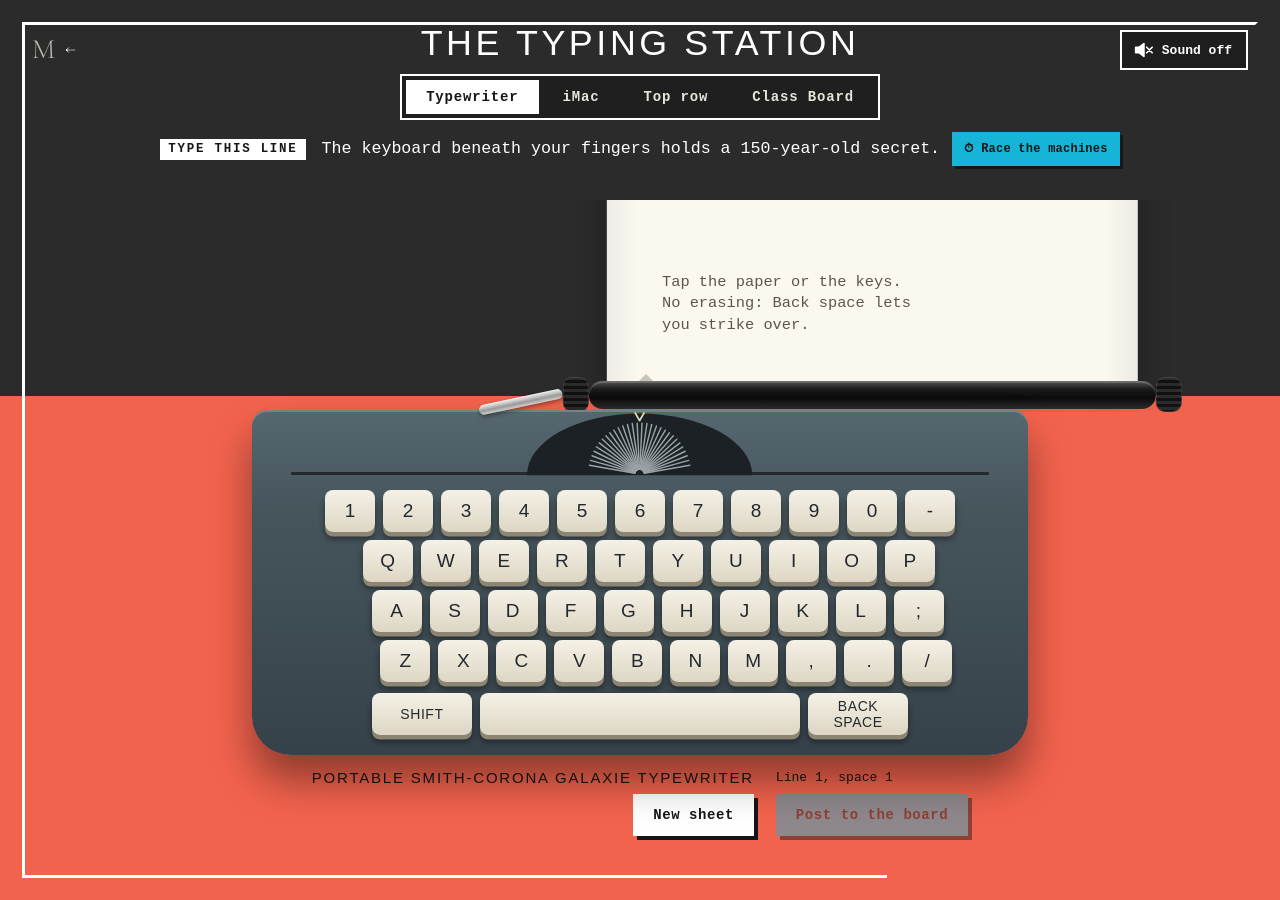
Test: the teacher’s prompt (B3) › goes with the board when it is saved under a class code
The width and height of the screenshot is (1280, 900).
Click the tab "Class Board" at (803, 97), box 732,80 -> 874,114
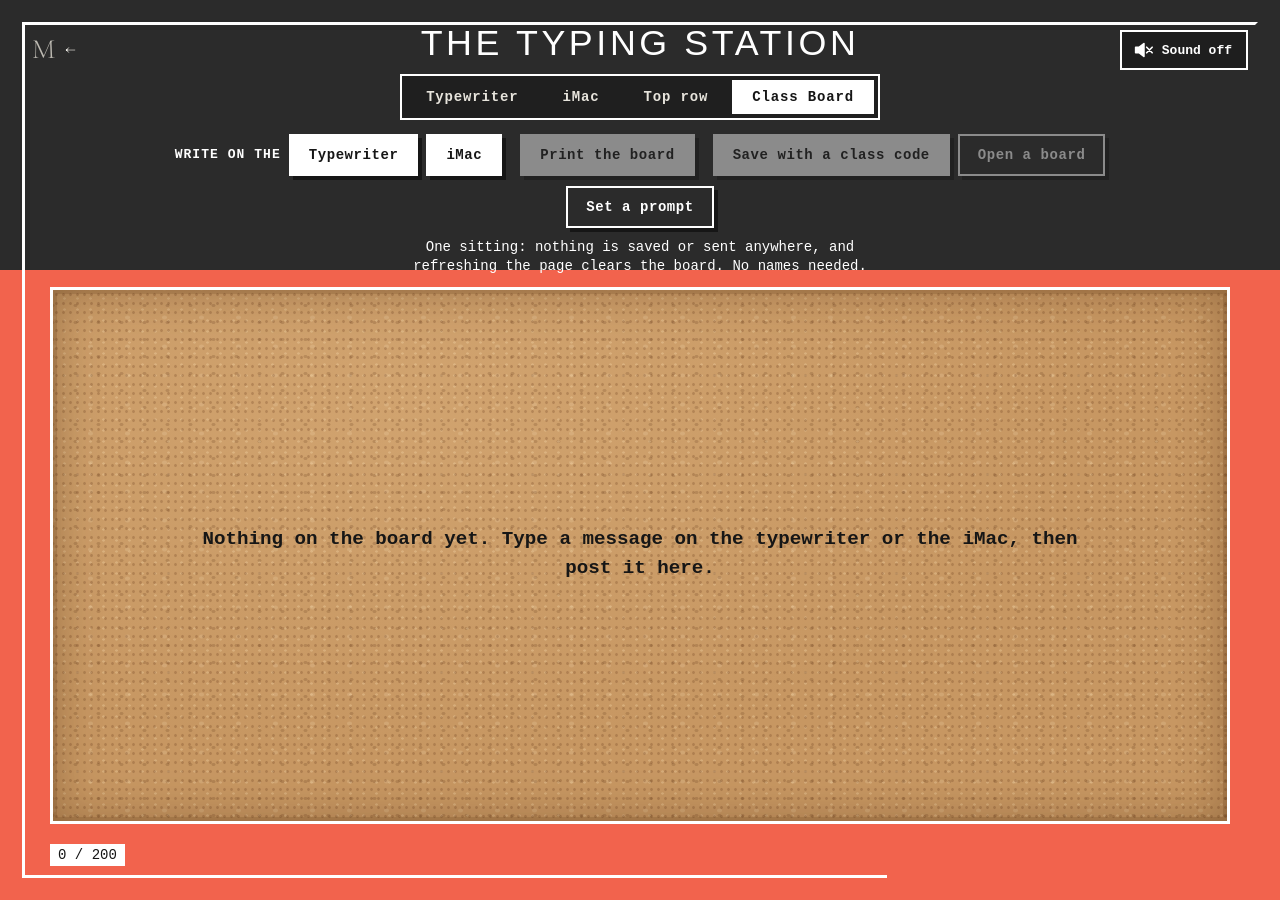
Click the button "Set a prompt" at (640, 207), box 566,186 -> 714,228
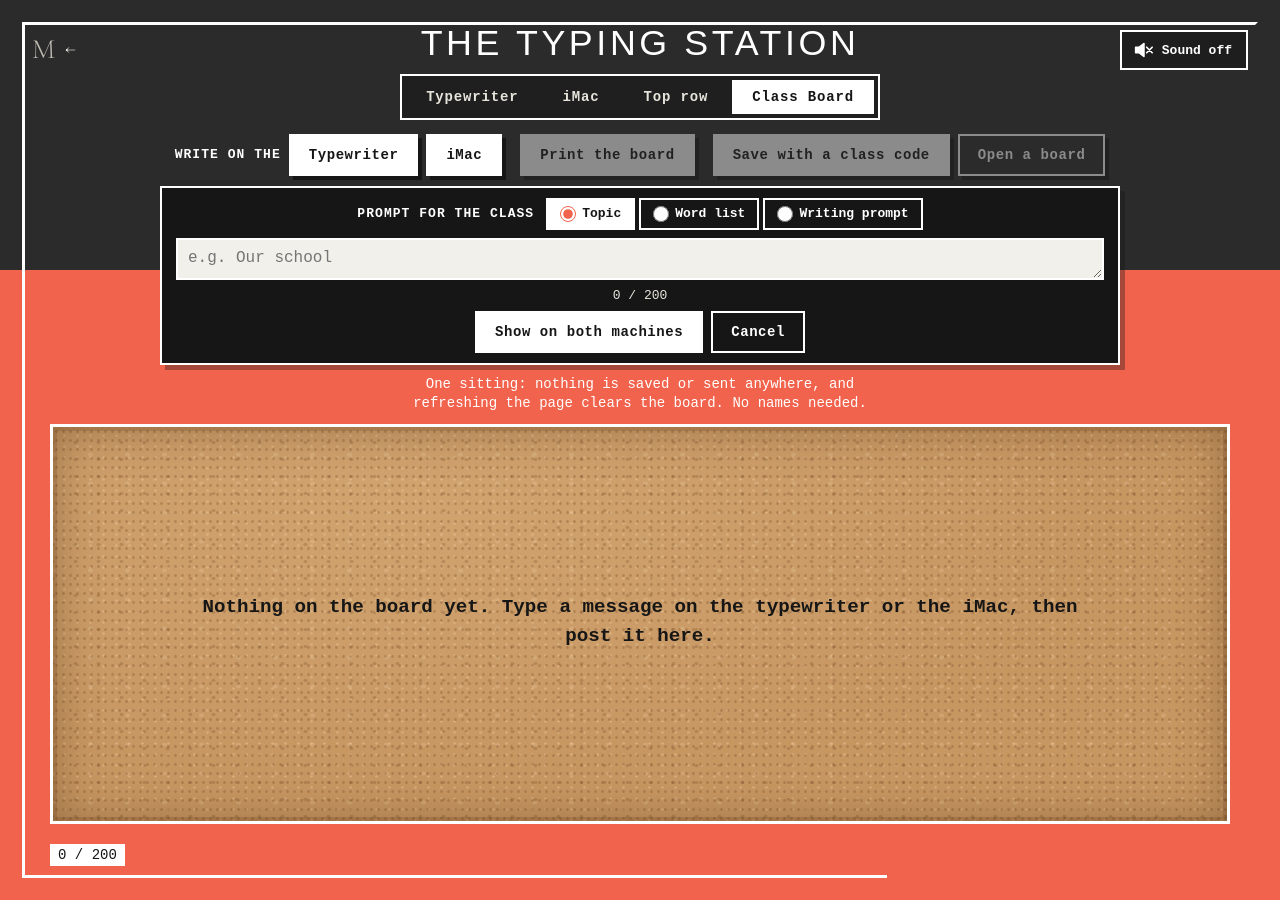
Type "Our school" into the text box named "The prompt" at (640, 259), box 176,238 -> 1104,280
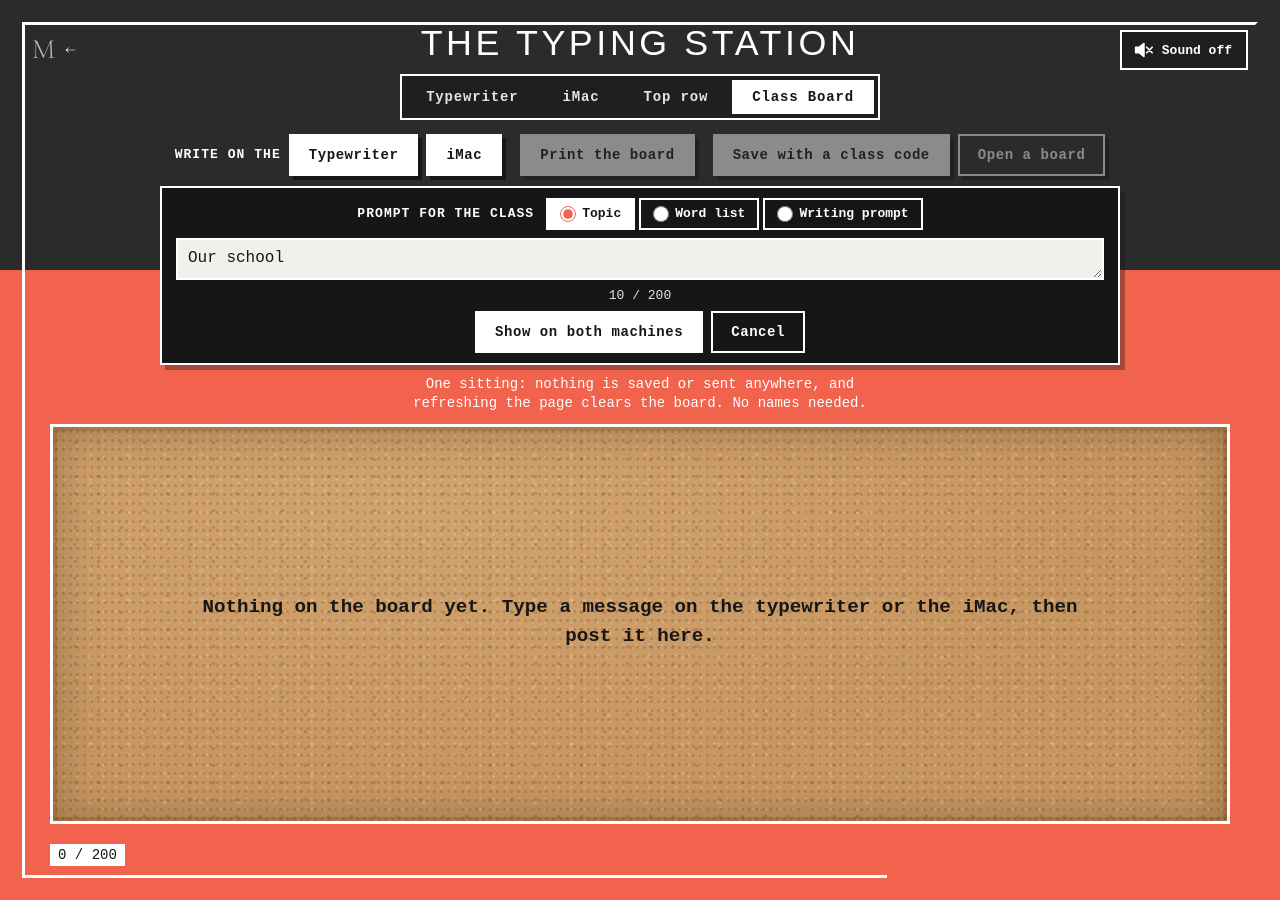
Click the button "Show on both machines" at (589, 332), box 475,311 -> 703,353
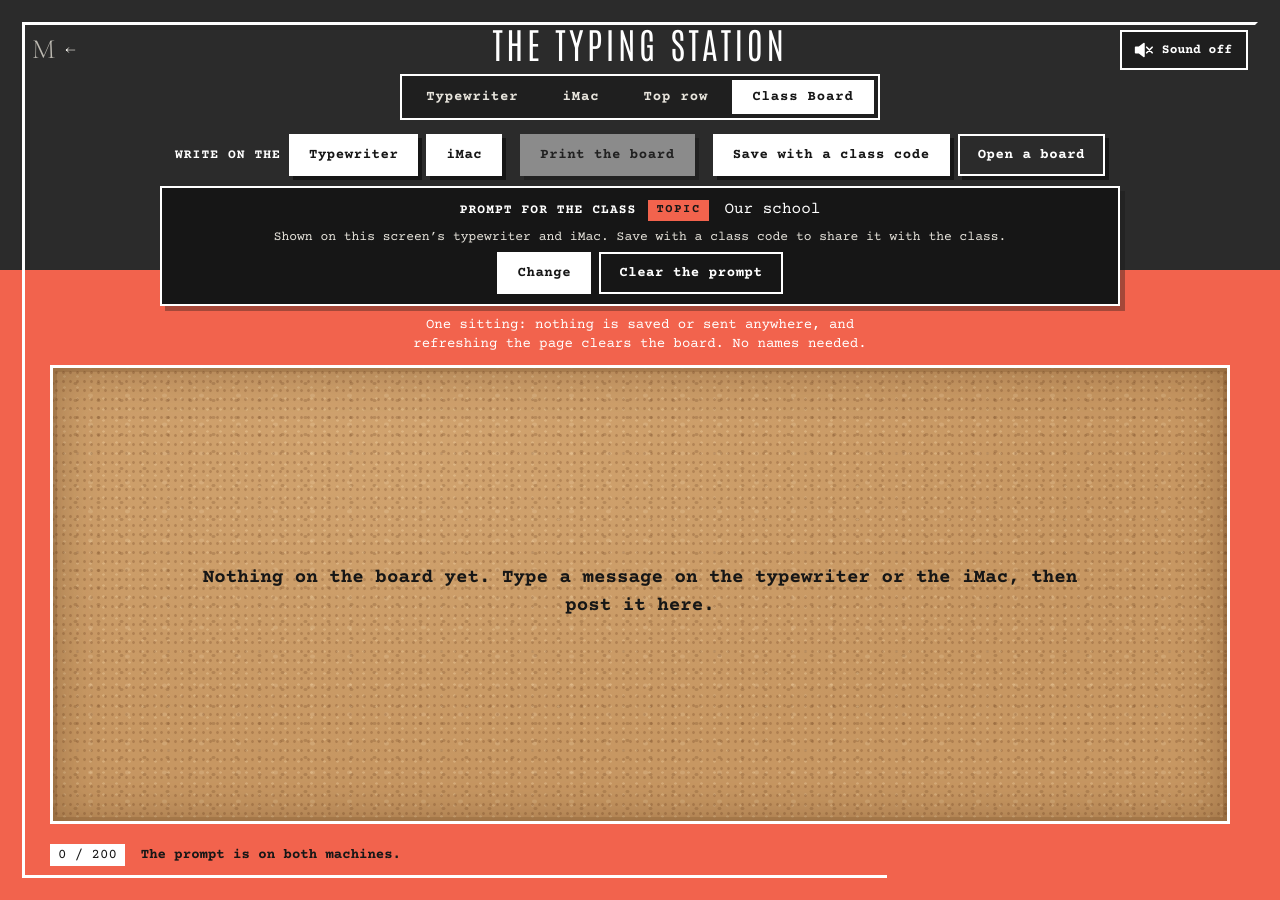
Expected: the button "Save with a class code" is enabled
Click the button "Save with a class code" at (831, 155), box 713,134 -> 950,176
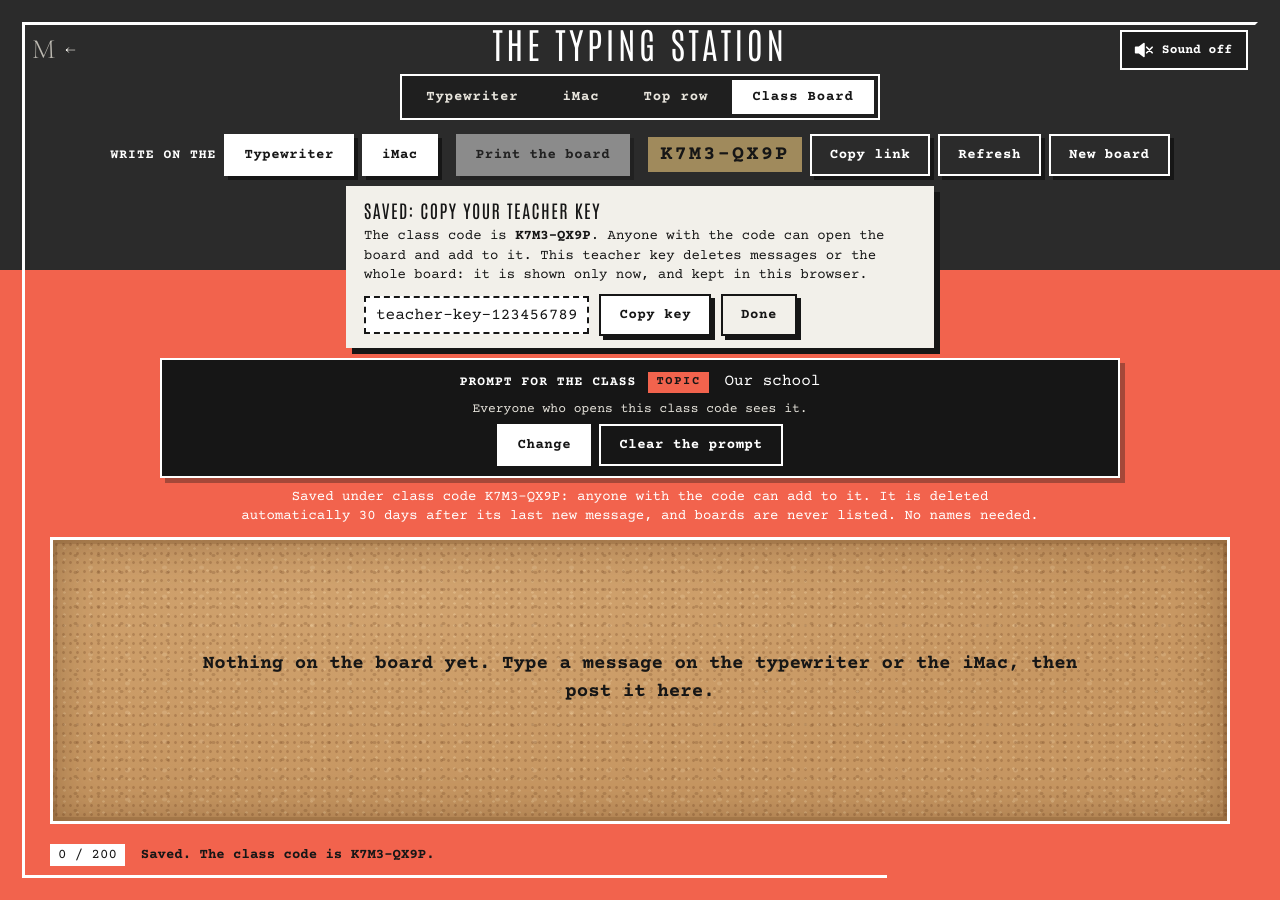
Expected: the text "Everyone who opens this class code sees it." is shown, 472,402 -> 808,416
